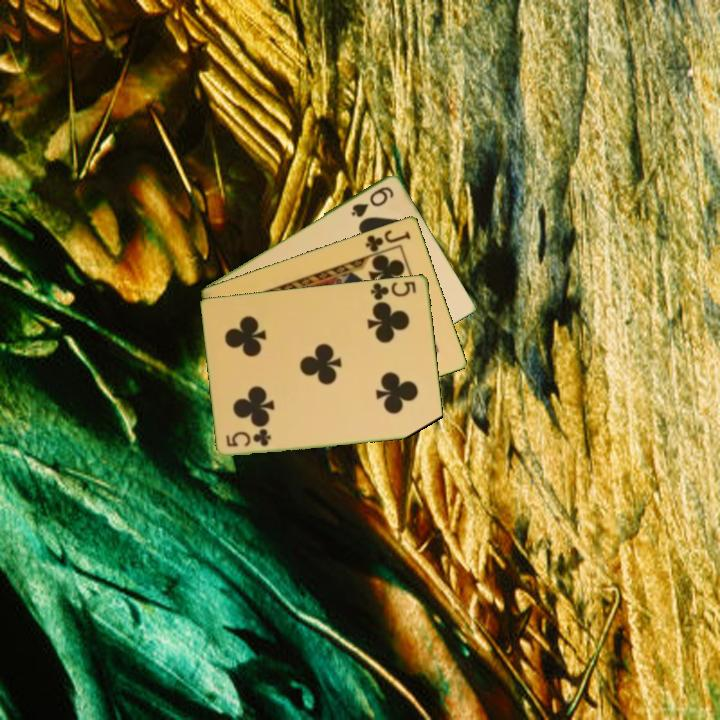5c: (367, 277, 419, 305), (223, 427, 274, 449)
6s: (348, 182, 397, 220)
Jc: (362, 226, 414, 255)
